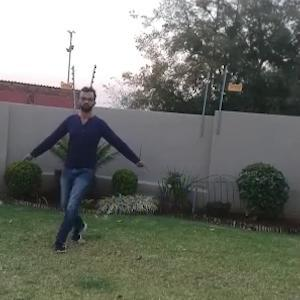land: (25, 90, 137, 244)
